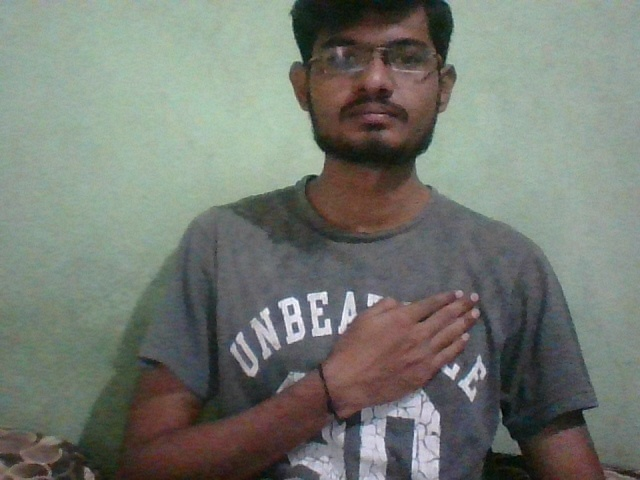no: (338, 289, 492, 406)
